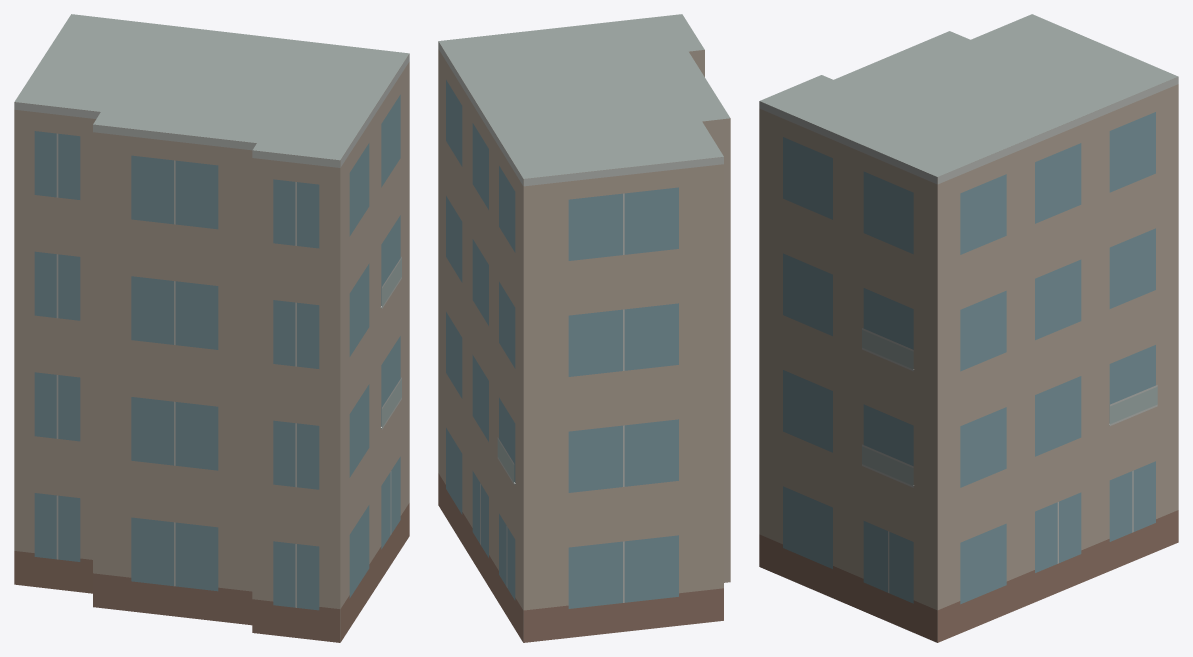
The model's file is survey-upis-32978548.glb.
The picture shows the model from 3 angles, left to right: view 1: azimuth 30°, elevation 25°; view 2: azimuth 150°, elevation 25°; view 3: azimuth 270°, elevation 25°; orthographic projection. The views are drawn at different scales.
Visible parts, largest first — view 1: survey-upis-32978548.tmp; view 2: survey-upis-32978548.tmp; view 3: survey-upis-32978548.tmp.
Part boxes in pixels (<box>): survey-upis-32978548.tmp: <box>14,14,409,642</box>; survey-upis-32978548.tmp: <box>438,14,730,642</box>; survey-upis-32978548.tmp: <box>759,14,1178,642</box>.
Size of the model in its own units: 11.42 by 15.2 by 12.4.
